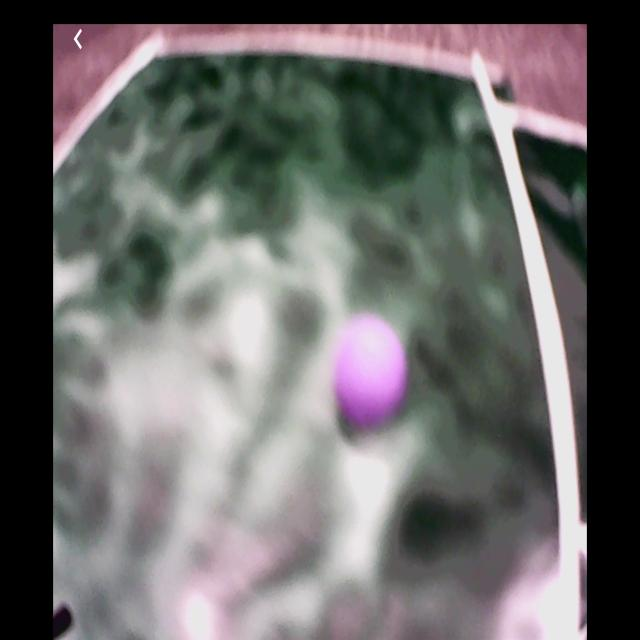ball: (336, 313, 408, 424)
